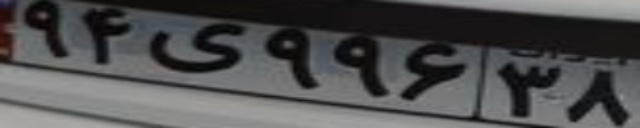3: (496, 59, 563, 118)
4: (78, 4, 132, 65)
6: (396, 41, 470, 102)
8: (566, 68, 630, 126)
9: (331, 33, 385, 98), (262, 27, 317, 90), (21, 0, 67, 58)
ye: (145, 21, 249, 75)
